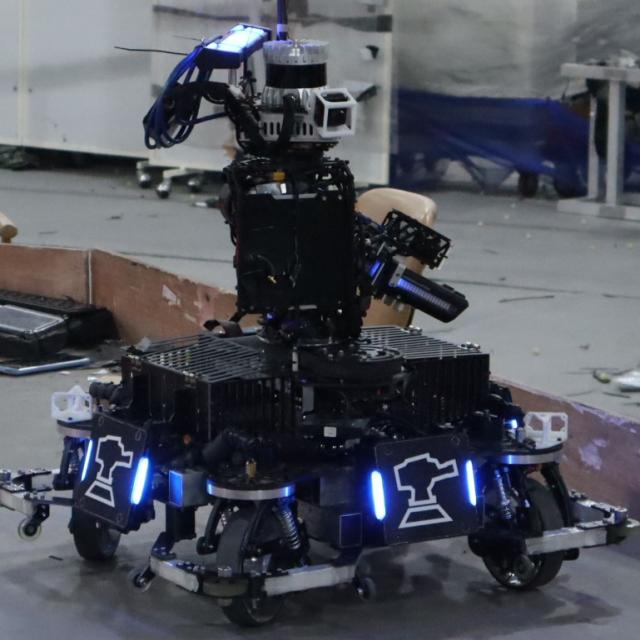Bs: (367, 449, 478, 531), (81, 430, 150, 508)
